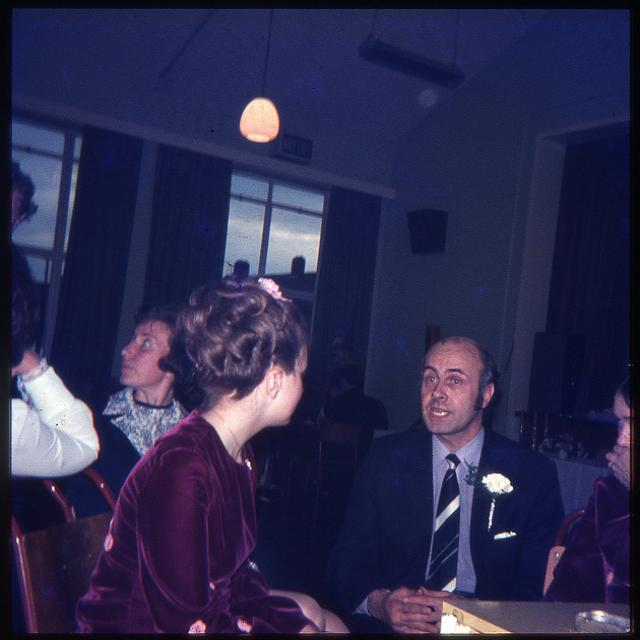chair: (12, 466, 118, 635), (314, 421, 363, 530), (549, 454, 607, 516)
dining table: (439, 600, 634, 635)
